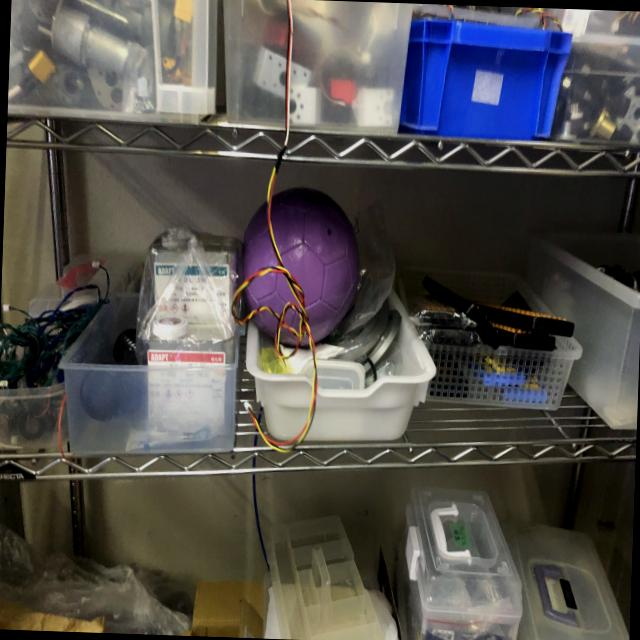purple_ball: (238, 186, 364, 342)
